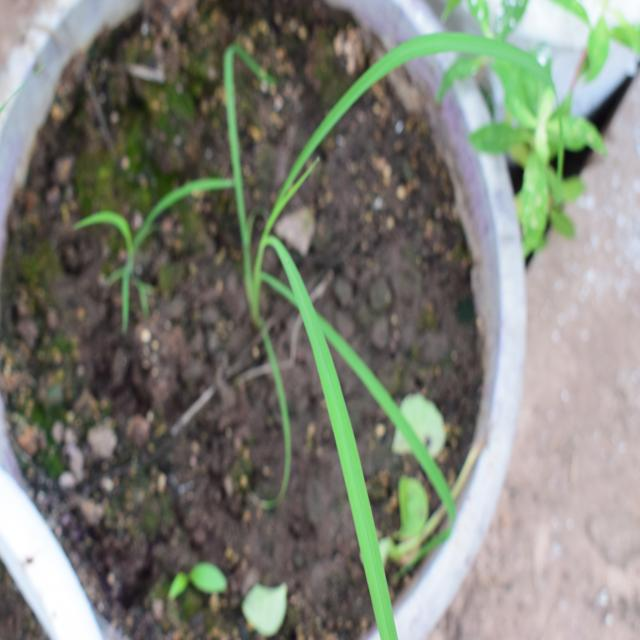barnyard_grass: (190, 40, 478, 586)
